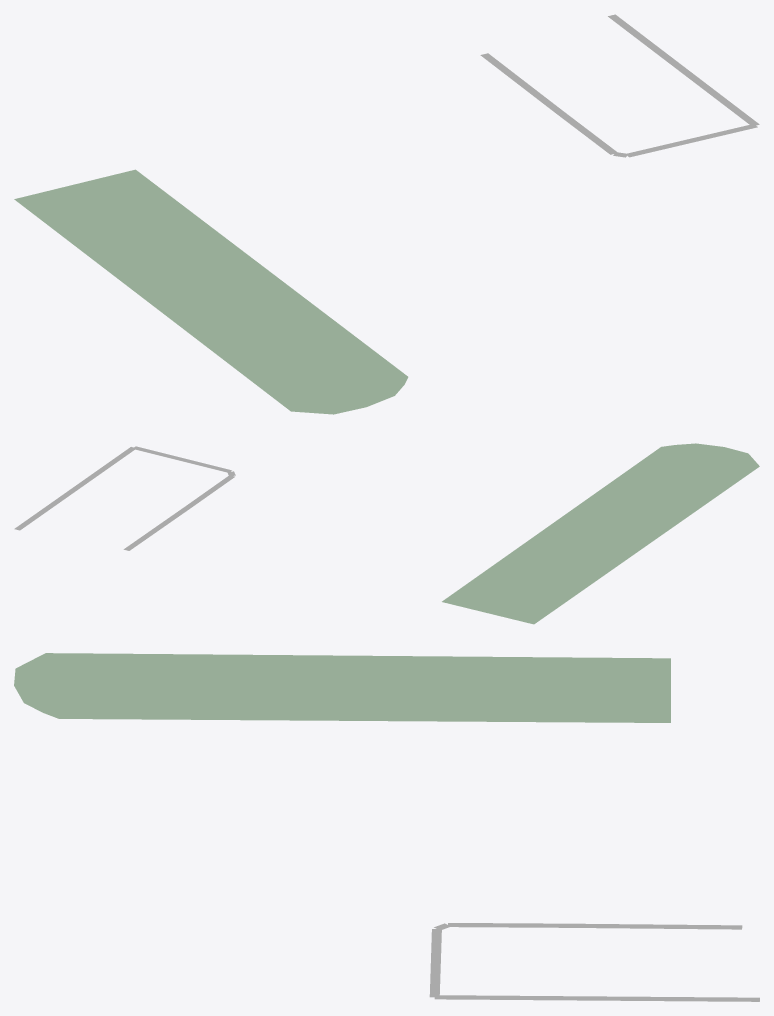
The picture shows the model from 3 angles, top to bottom: view 1: azimuth 30°, elevation 25°; view 2: azimuth 150°, elevation 25°; view 3: azimuth 270°, elevation 25°; orthographic projection. The views are drawn at different scales.
Size of the model in its own units: 410 by 0.984 by 373.
